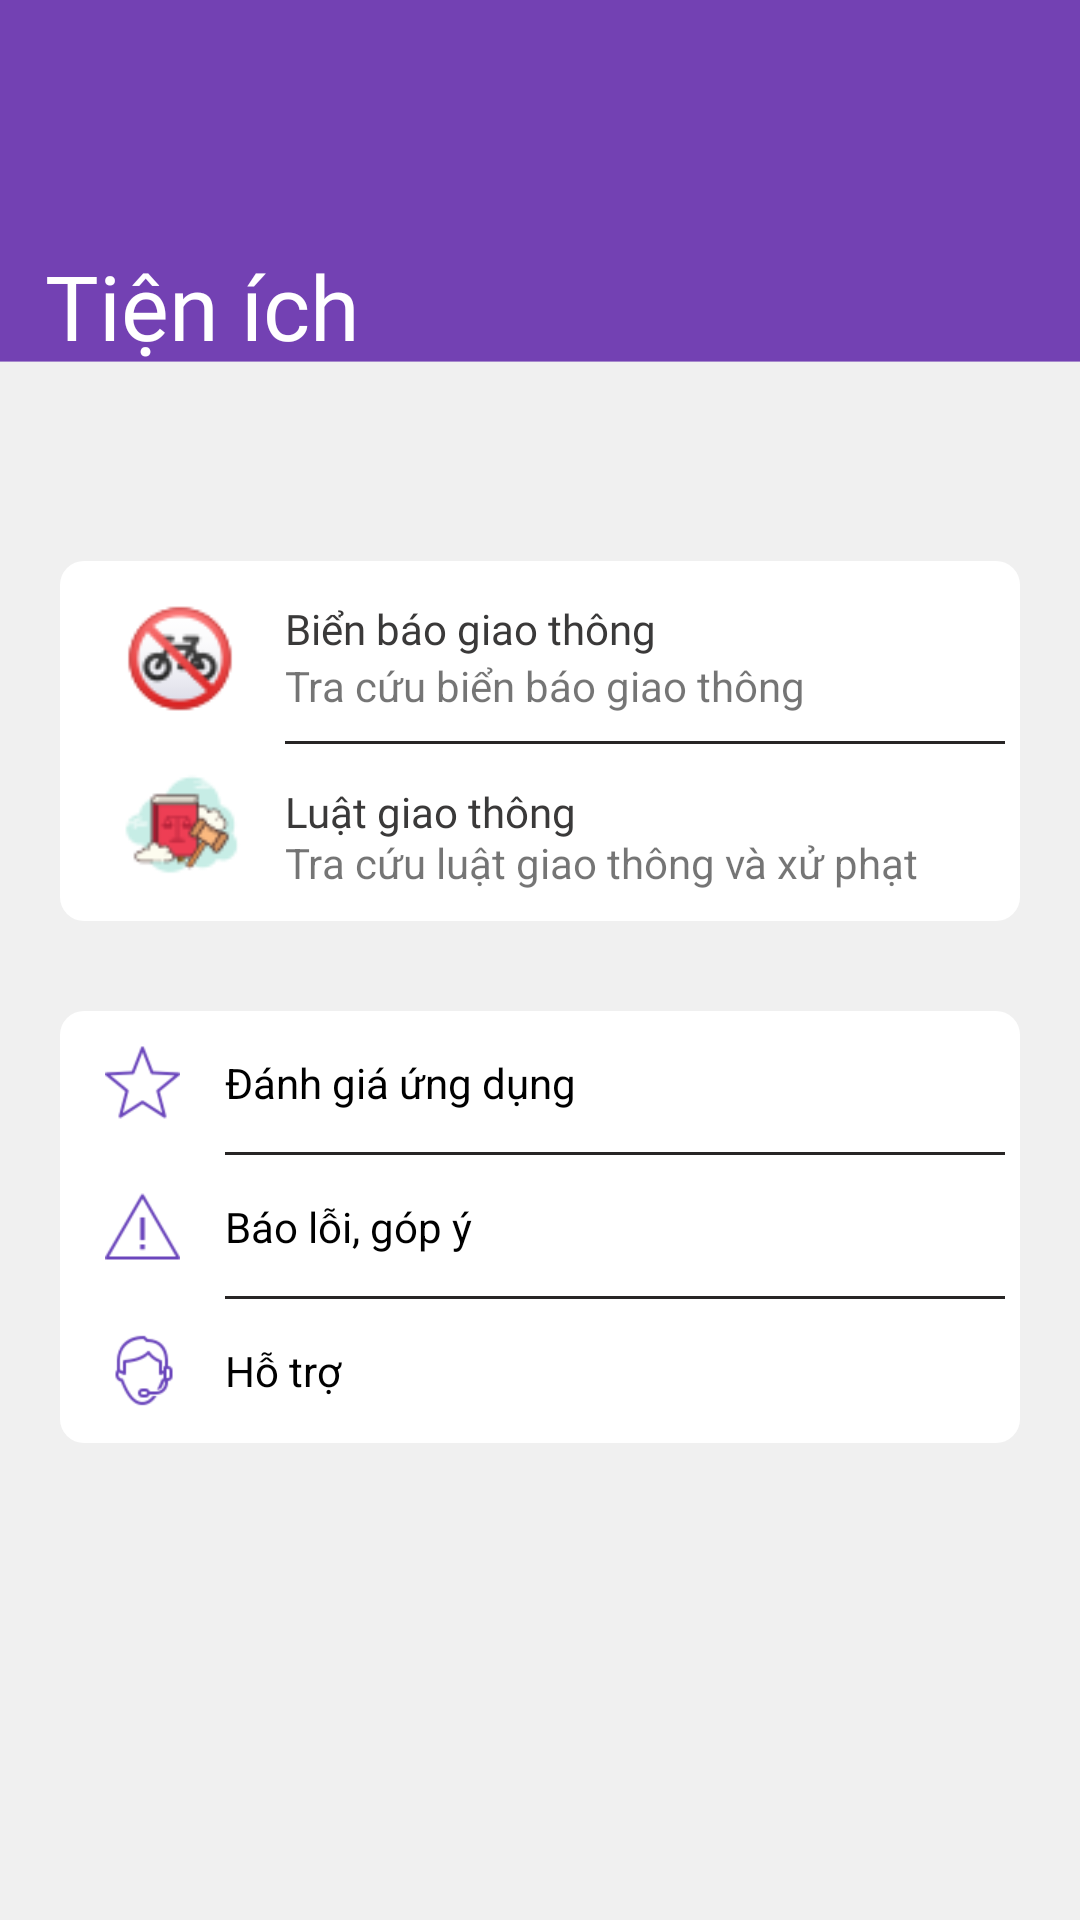

Icons on this 1080px×1920px Android screen, each with the point to tap as [x,y]:
error: [142,1226]
law: [181,824]
rate: [142,1082]
support: [144,1370]
